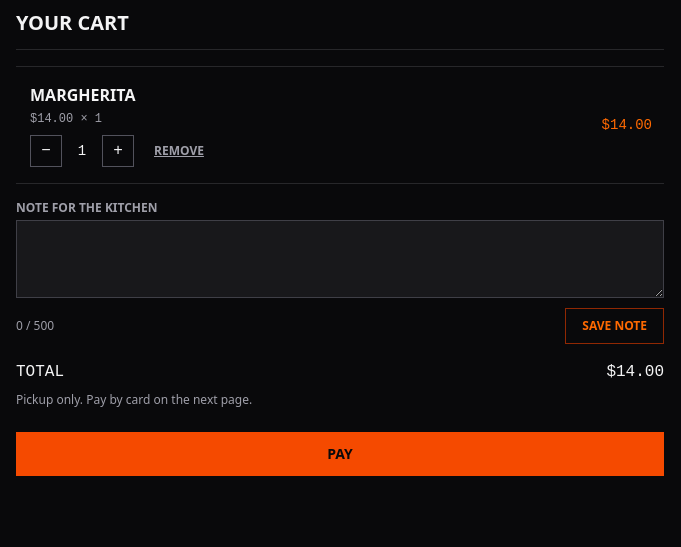
it: CartView › shows the server limit message and leaves the cart unchanged
Step 1. Click the button with test id "plus" → (118, 151), box [102,135,134,167]
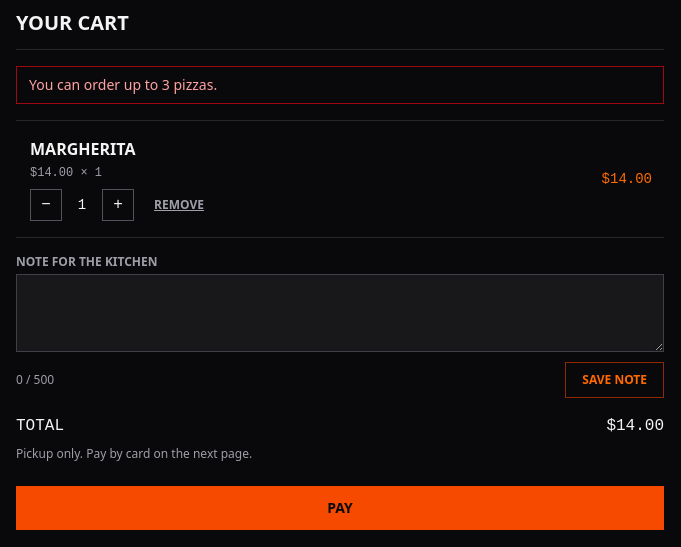
Expected: the text with test id "qty" reads "1", [95,166,102,180]
Expected: the message with test id "cart-error" reads "You can order up to 3 pizzas.", [29,75,217,94]
